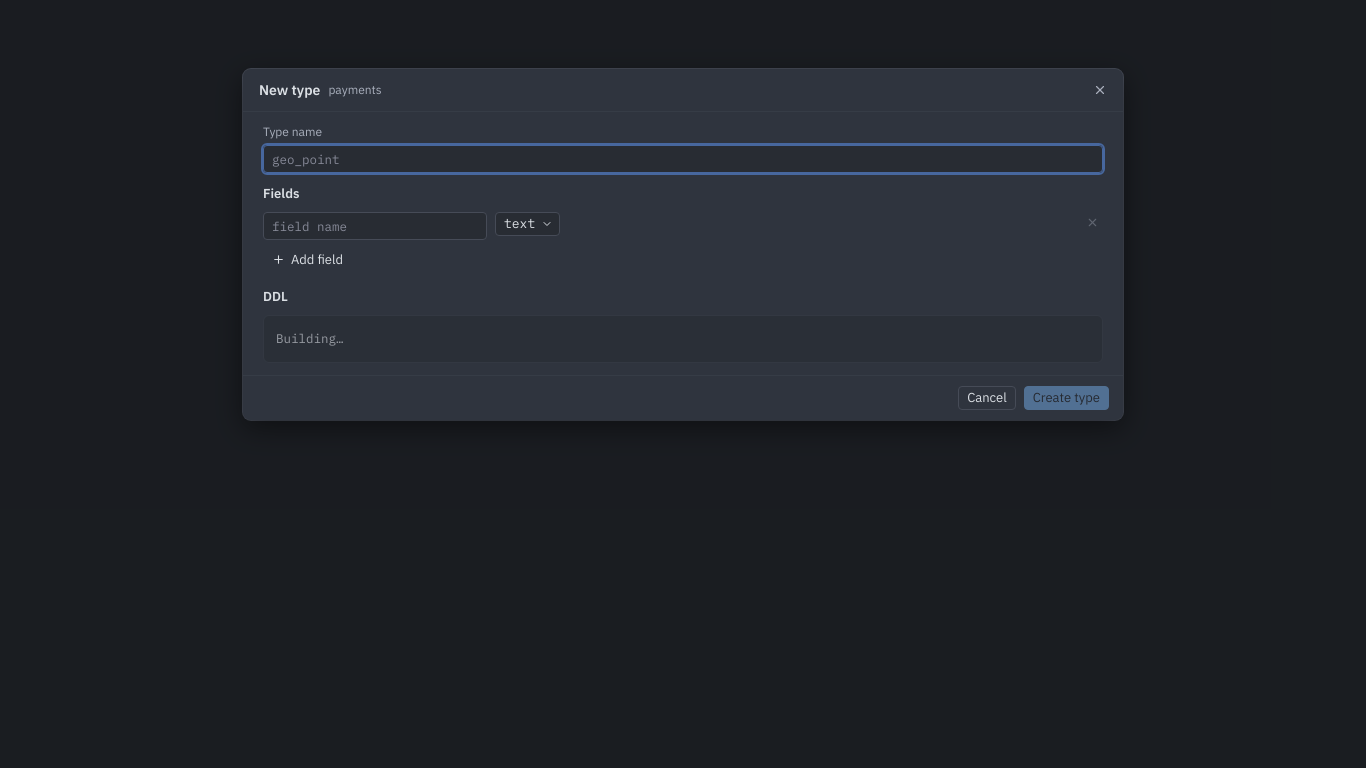
it: NewTypeDialog › shows an execution error and stays open
In the field labelled "Type name": (683, 159) 263,145 -> 1103,173, type "x"
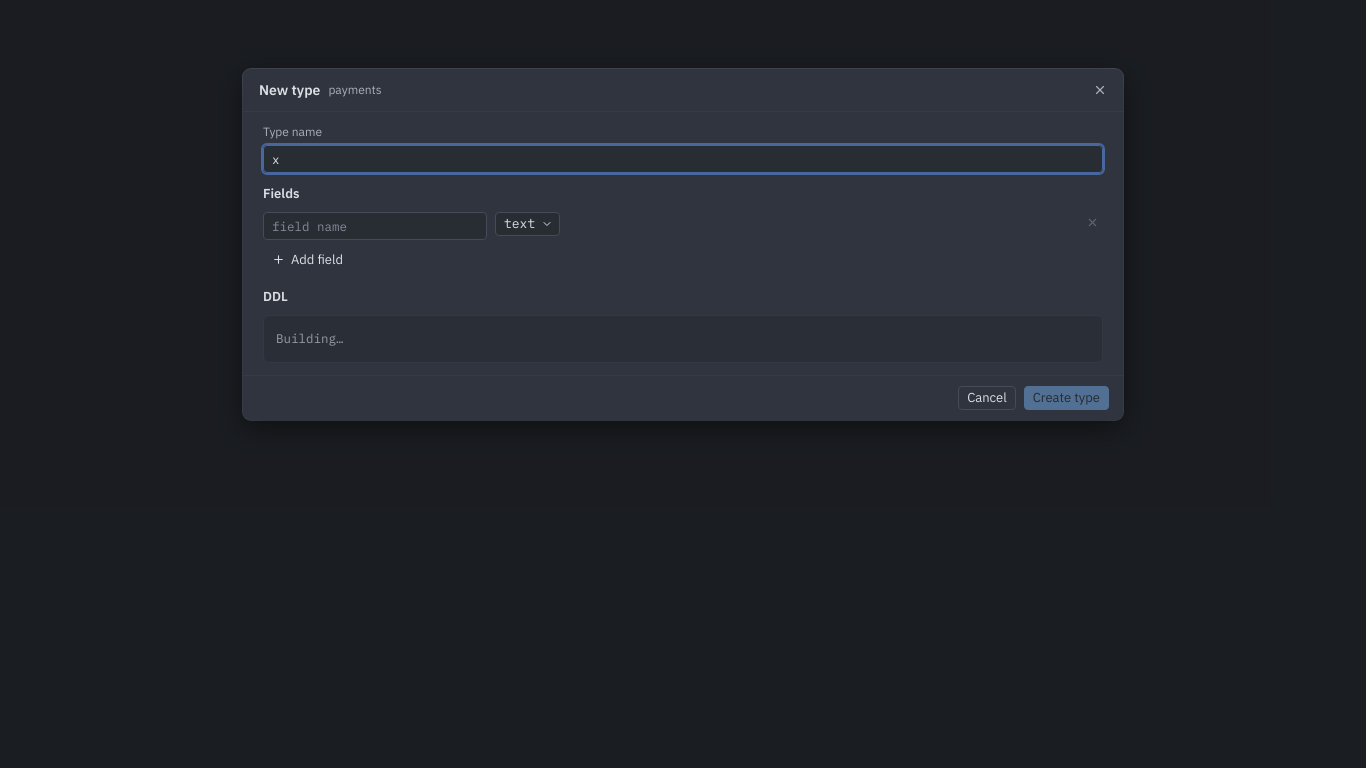
In the field named "Field 1 name": (375, 226) 263,212 -> 487,240, type "a"
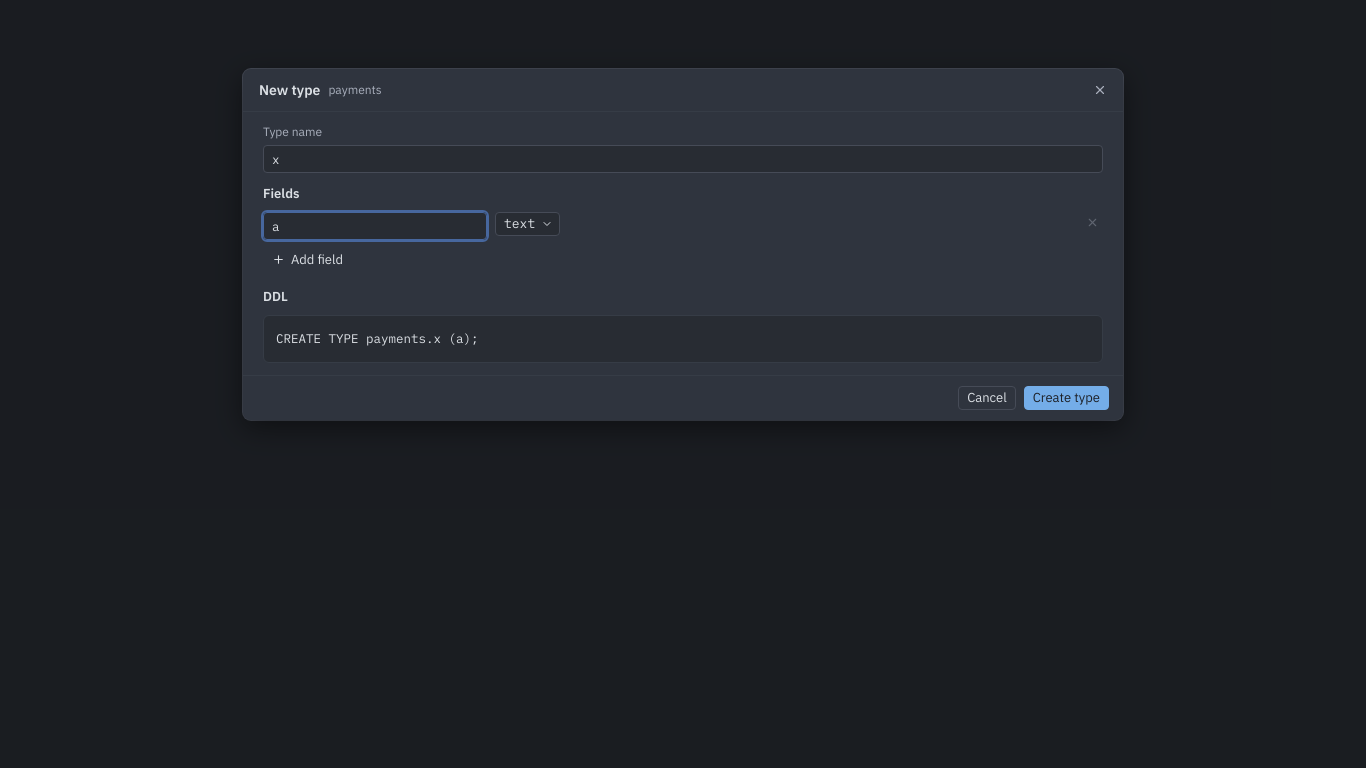
Expected: the text "CREATE TYPE payments.x (a);" is shown, 263,315 -> 1103,363
Click the button "Create type": click(1066, 398) 1024,386 -> 1109,410
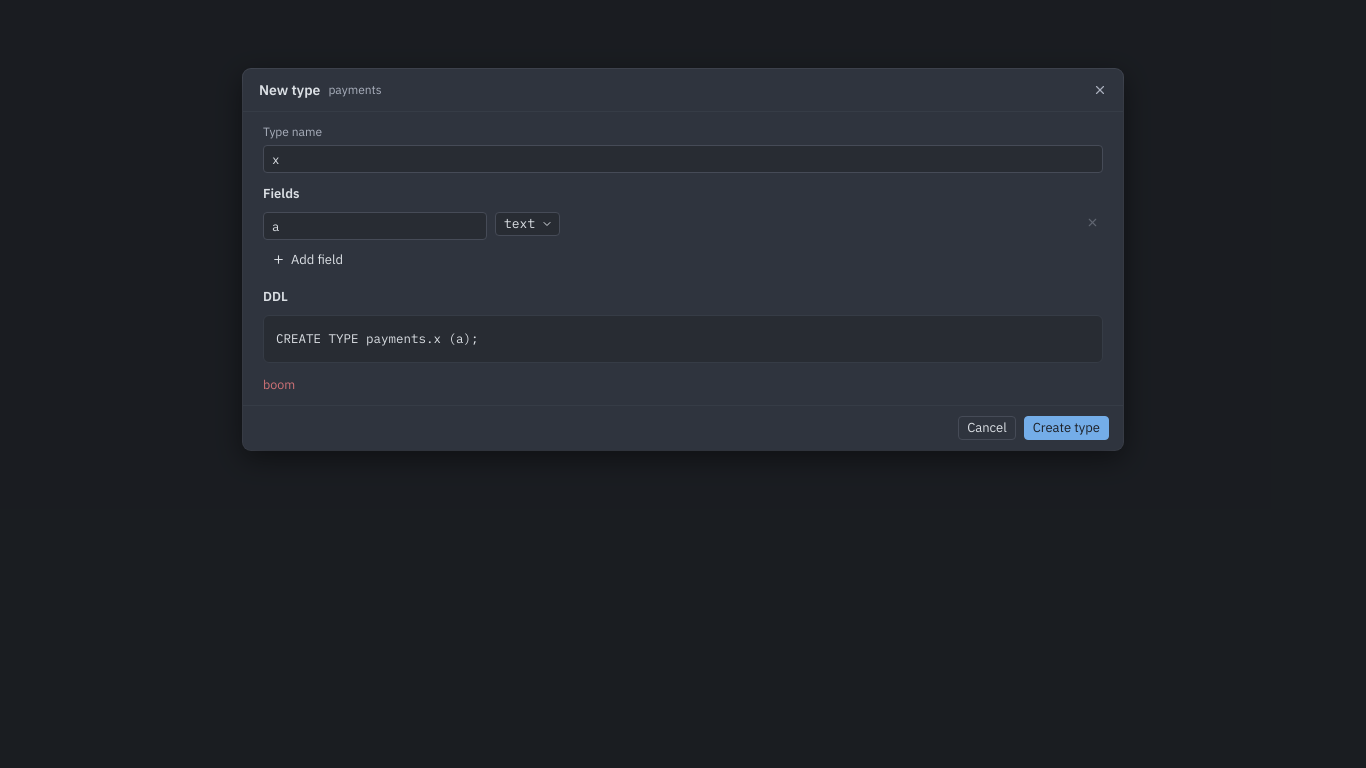
Expected: the text "boom" is shown, 263,376 -> 295,392
